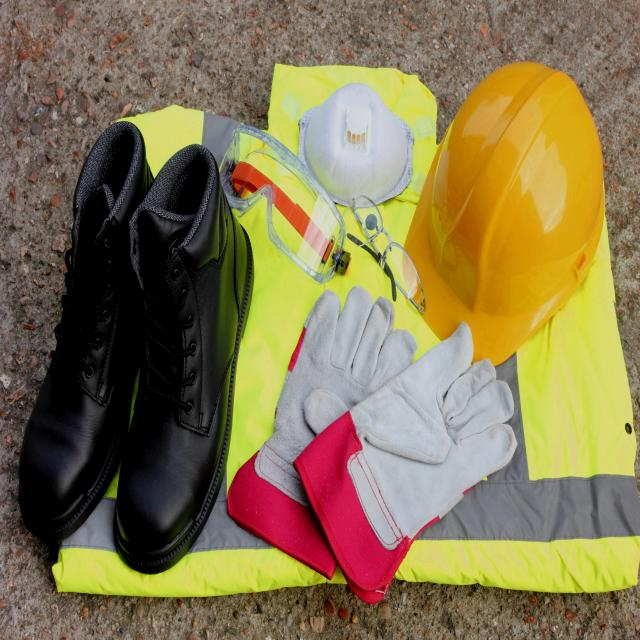face_mask: (291, 88, 415, 208)
glasses: (217, 114, 348, 280)
hand_glove: (296, 338, 521, 588), (226, 293, 418, 558)
head_helmet: (391, 50, 601, 356)
shoes: (5, 121, 172, 537), (114, 150, 248, 575)
